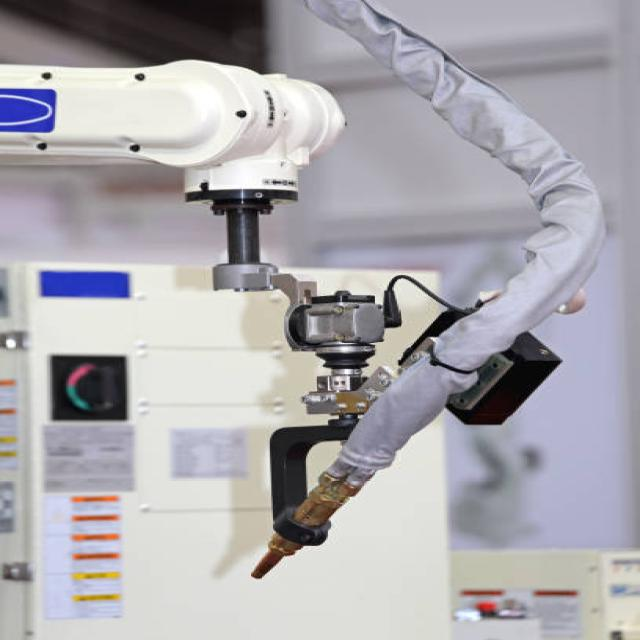Robotic-arm: (0, 56, 345, 300)
